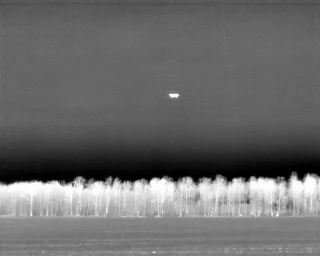DRONE: (165, 89, 183, 103)
